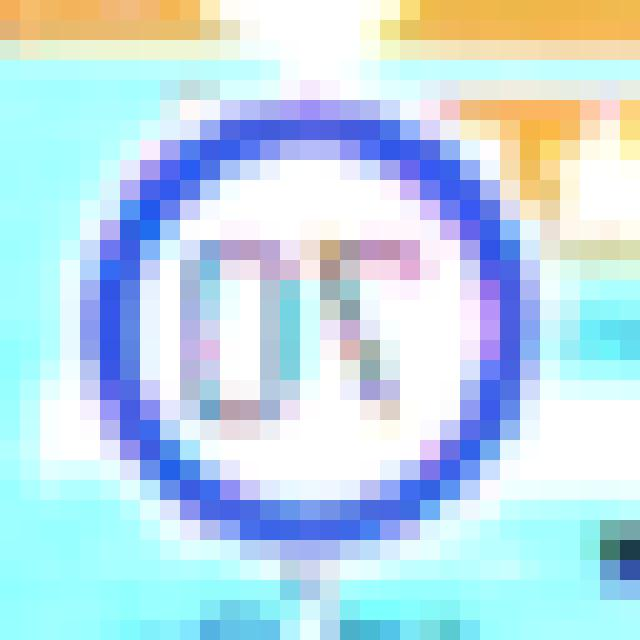SPEED LIMIT 70: (90, 101, 532, 552)
